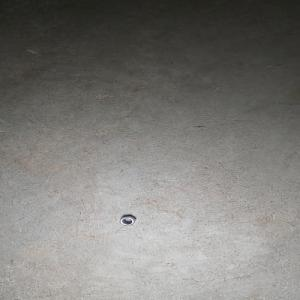Nut: (118, 216, 136, 226)
